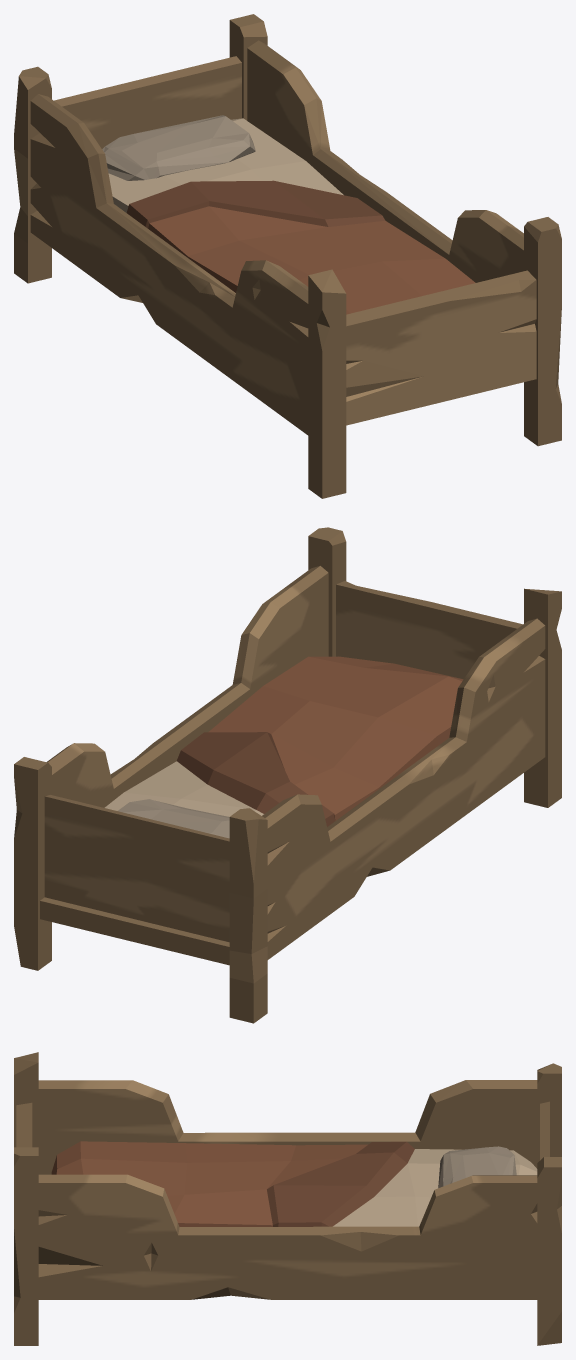
The model's file is SM_Prop_Bed_01.fbx.
3 renders of one model, top to bottom at view 1: azimuth 30°, elevation 25°; view 2: azimuth 150°, elevation 25°; view 3: azimuth 270°, elevation 25°, orthographic. The views are drawn at different scales.
Visible parts, largest first — view 1: SM_Prop_Bed_01; view 2: SM_Prop_Bed_01; view 3: SM_Prop_Bed_01.
Boxes of the visible parts, x1,y1,x2,y2 form: SM_Prop_Bed_01: (14, 14, 561, 498); SM_Prop_Bed_01: (14, 527, 561, 1023); SM_Prop_Bed_01: (14, 1052, 561, 1345).
Bounding box in the file's own units: 100 × 85.08 × 223.
